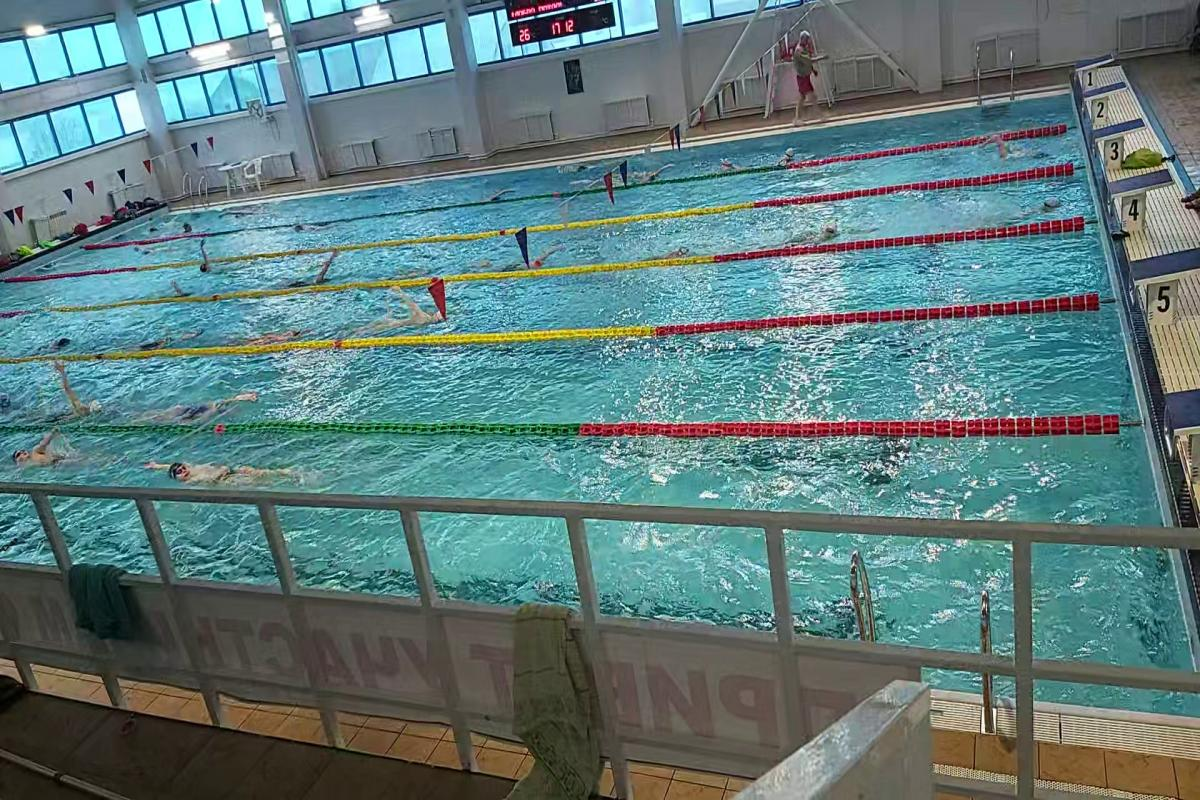swimmer: (144, 450, 304, 485), (39, 362, 111, 422), (143, 385, 265, 420), (4, 436, 102, 472), (372, 286, 444, 333), (495, 243, 574, 273), (972, 133, 1042, 166), (128, 322, 210, 349), (279, 254, 343, 284), (793, 212, 847, 245), (1016, 188, 1066, 221), (244, 322, 315, 342), (194, 237, 223, 274), (649, 243, 697, 258)
